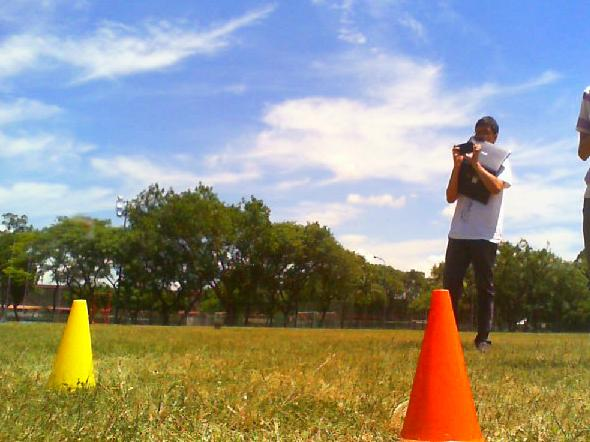0 cone: (398, 290, 490, 442), (44, 300, 96, 390)
